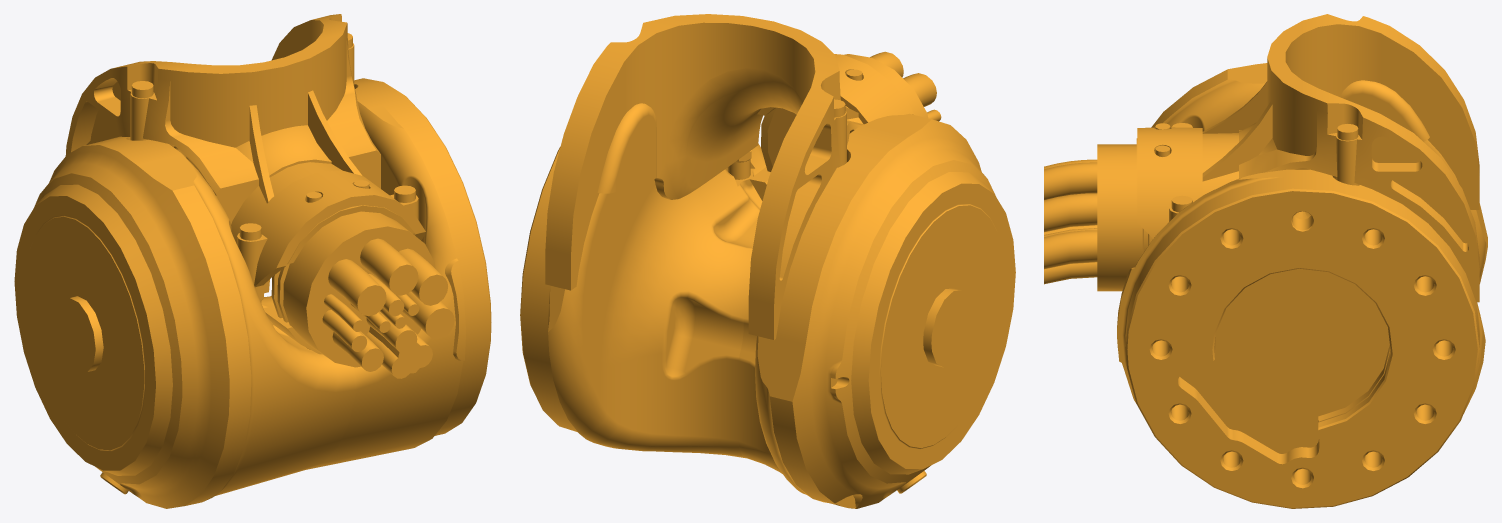
Rendered from ABBIRB6740_260_300Link6.dae.
3 renders of one model, left to right at view 1: azimuth 30°, elevation 25°; view 2: azimuth 150°, elevation 25°; view 3: azimuth 270°, elevation 25°, orthographic. The views are drawn at different scales.
Parts seen in each view (by area): view 1: Link6.002; view 2: Link6.002; view 3: Link6.002.
Part boxes in pixels (x1=…): Link6.002: x1=14, y1=14, x2=491, y2=508; Link6.002: x1=520, y1=14, x2=1015, y2=508; Link6.002: x1=1044, y1=14, x2=1487, y2=508.
Size of the model in its own units: 0.205 by 0.2507 by 0.2475.
